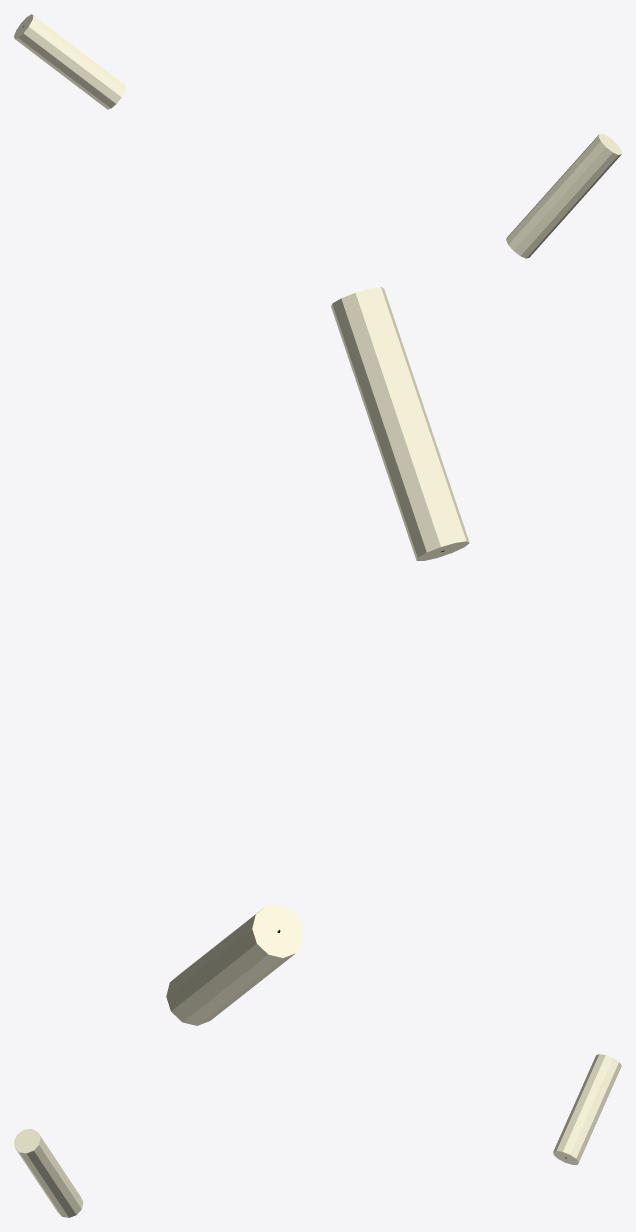
Rendered from tile_116.glb.
The picture shows the model from 3 angles, top to bottom: view 1: azimuth 30°, elevation 25°; view 2: azimuth 150°, elevation 25°; view 3: azimuth 270°, elevation 25°; orthographic projection. The views are drawn at different scales.
Bounding box in the file's own units: 2.75 × 1.23 × 5.36.
